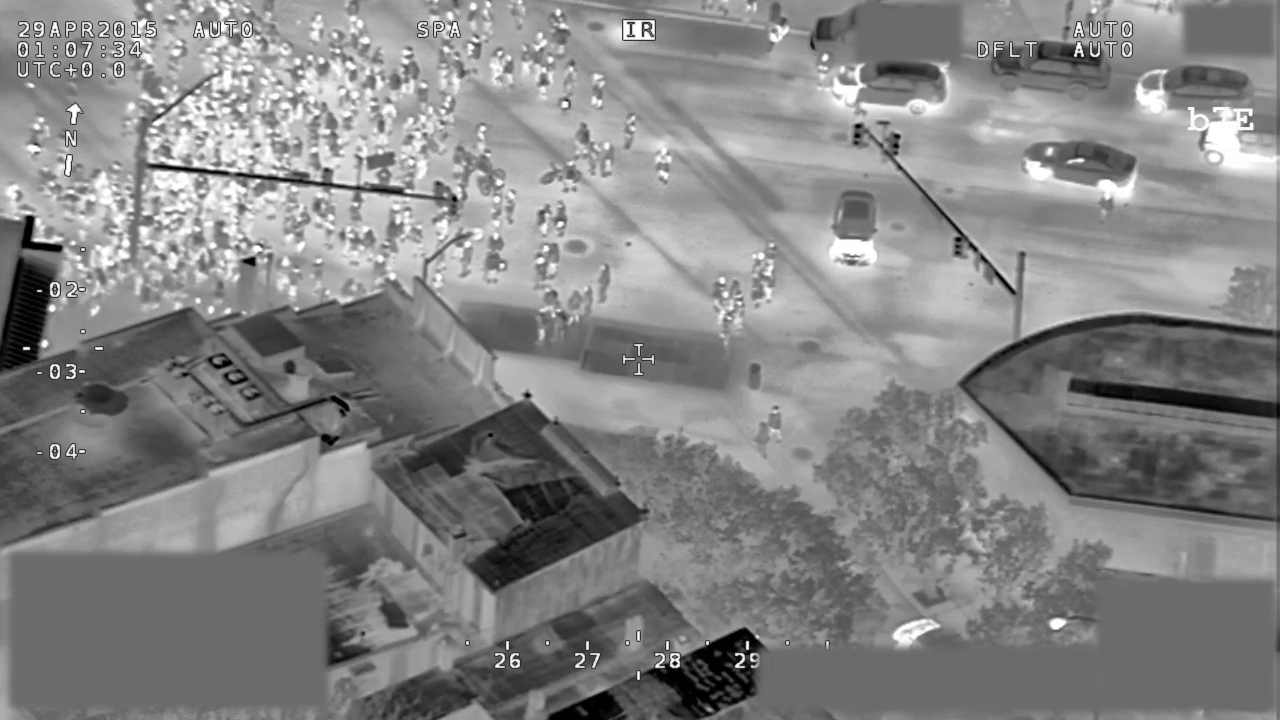vehicle: (1132, 59, 1261, 122), (1017, 137, 1140, 200), (985, 39, 1115, 98), (828, 60, 949, 116), (827, 189, 879, 271)
